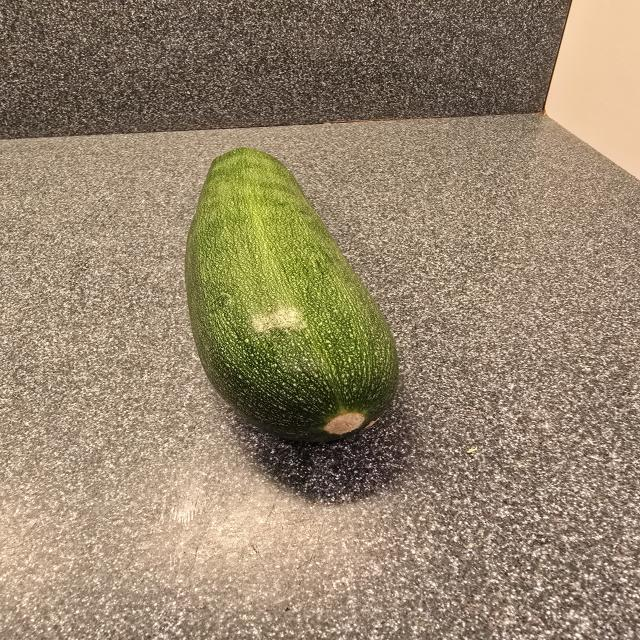Courgette: (185, 148, 398, 442)
